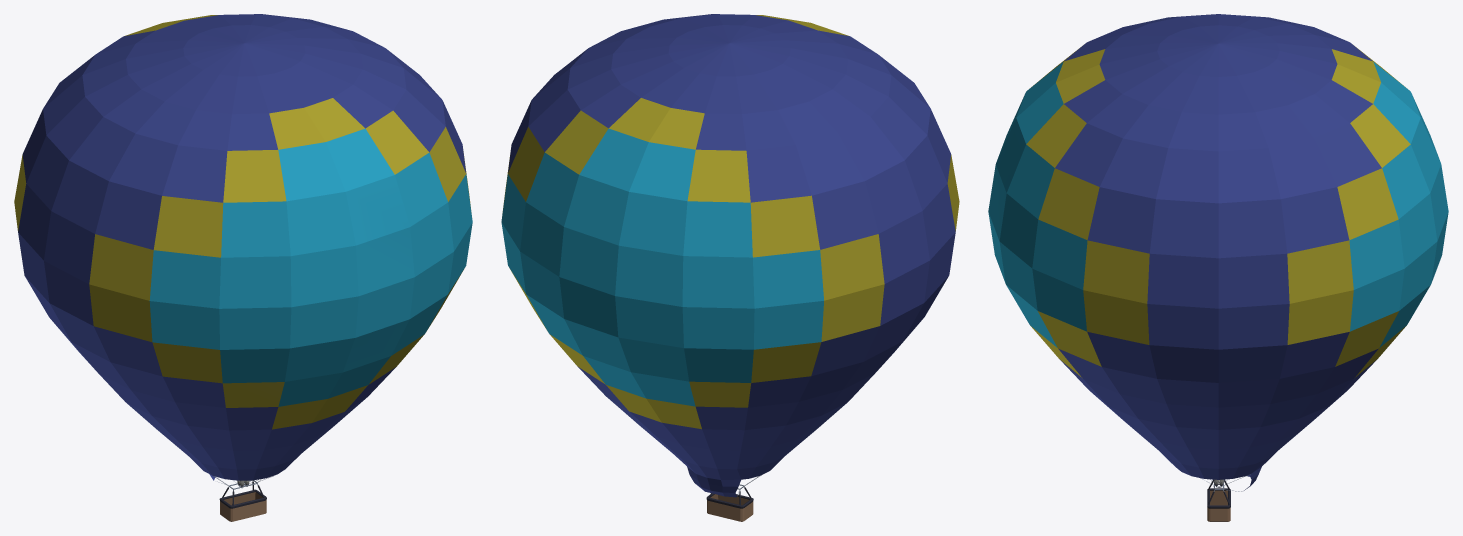
The model's file is HotAirBallon_Big_03.fbx.
3 views of the same model, side by side, from view 1: azimuth 30°, elevation 25°; view 2: azimuth 150°, elevation 25°; view 3: azimuth 270°, elevation 25° (orthographic).
Visible parts, largest first — view 1: HotAirBallon_Big_03; view 2: HotAirBallon_Big_03; view 3: HotAirBallon_Big_03.
Part boxes in pixels (x1,y1,x2,y2): HotAirBallon_Big_03: [14, 14, 472, 521]; HotAirBallon_Big_03: [501, 14, 959, 521]; HotAirBallon_Big_03: [988, 14, 1448, 521].
Size of the model in its own units: 32.13 by 36.26 by 32.13.
